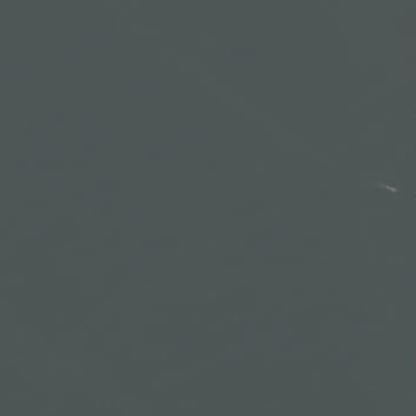ship: (377, 179, 401, 196)
